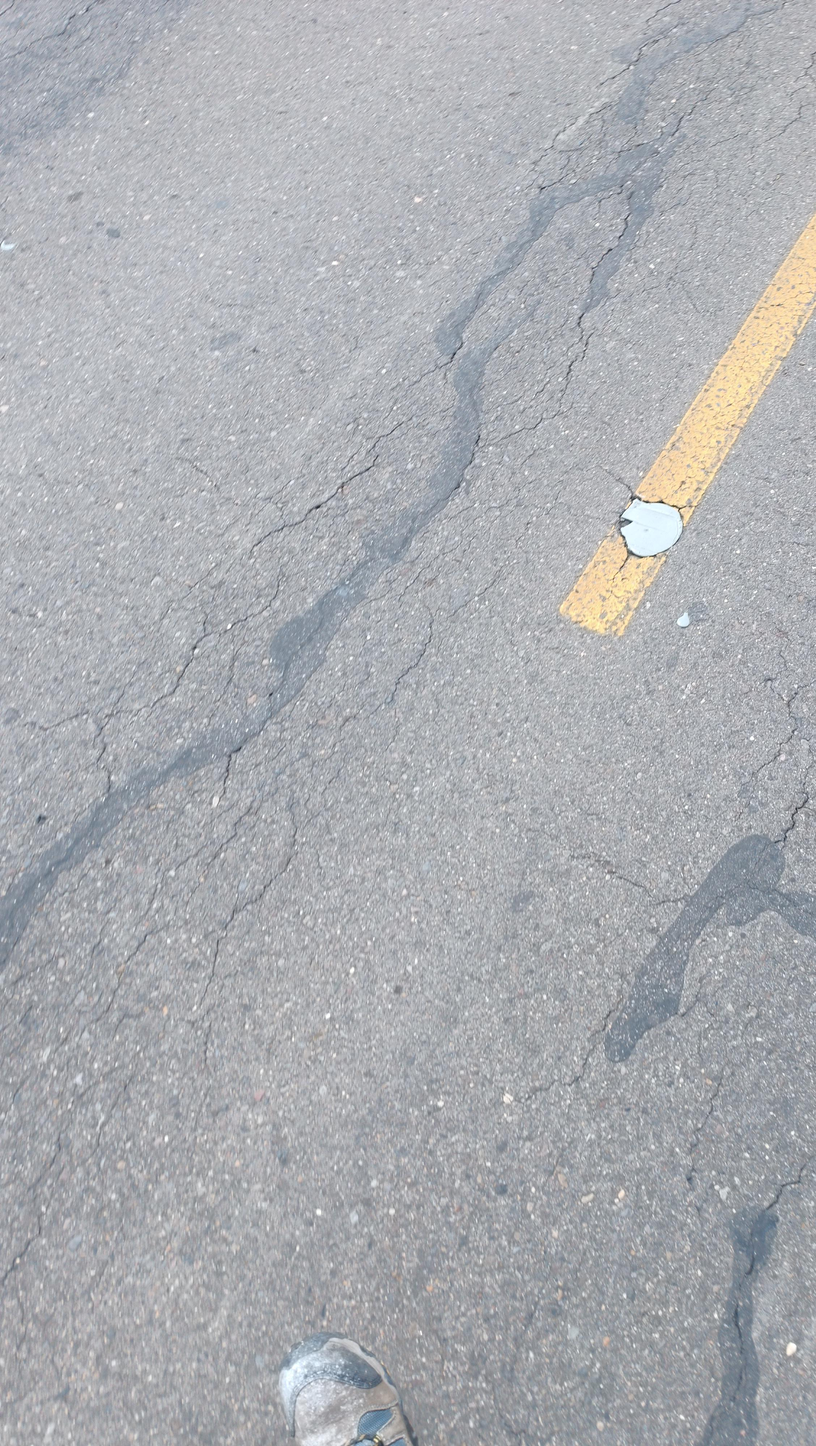GRIETA: (727, 1161, 808, 1409), (524, 981, 629, 1104)
PIEL DE COCODRILO: (0, 0, 816, 1123), (708, 620, 816, 948)
